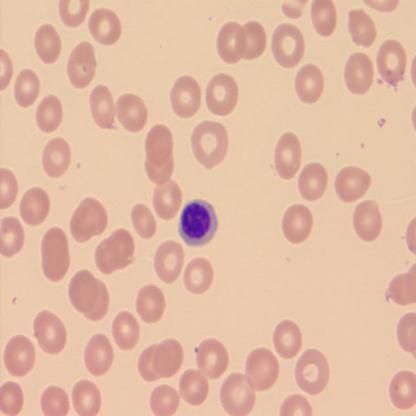NRC: (176, 196, 220, 247)
